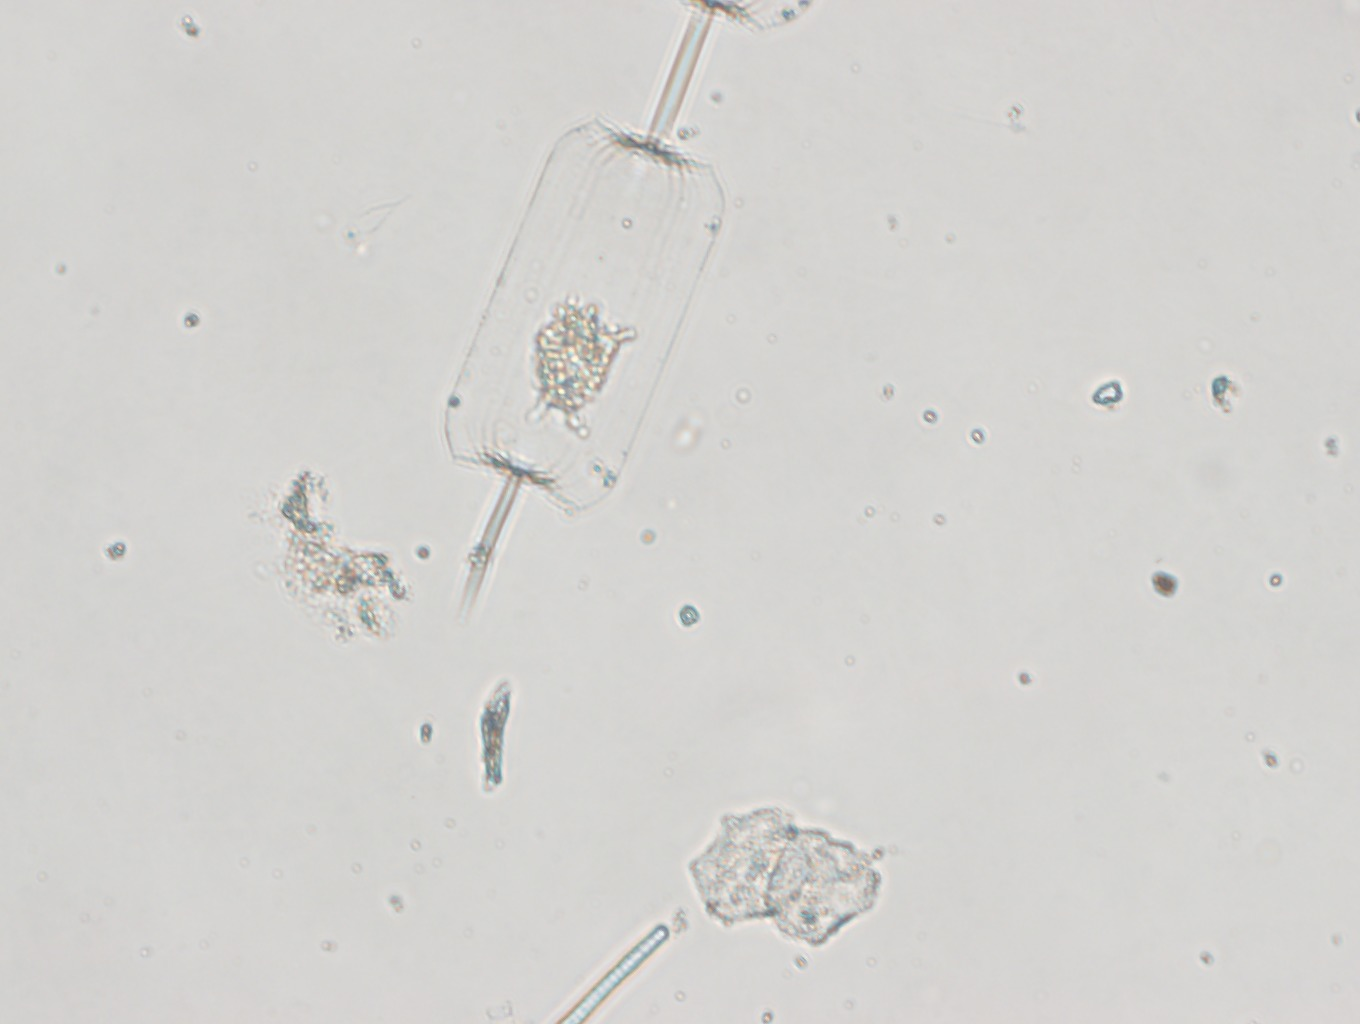biddulphia: (439, 3, 729, 613)
